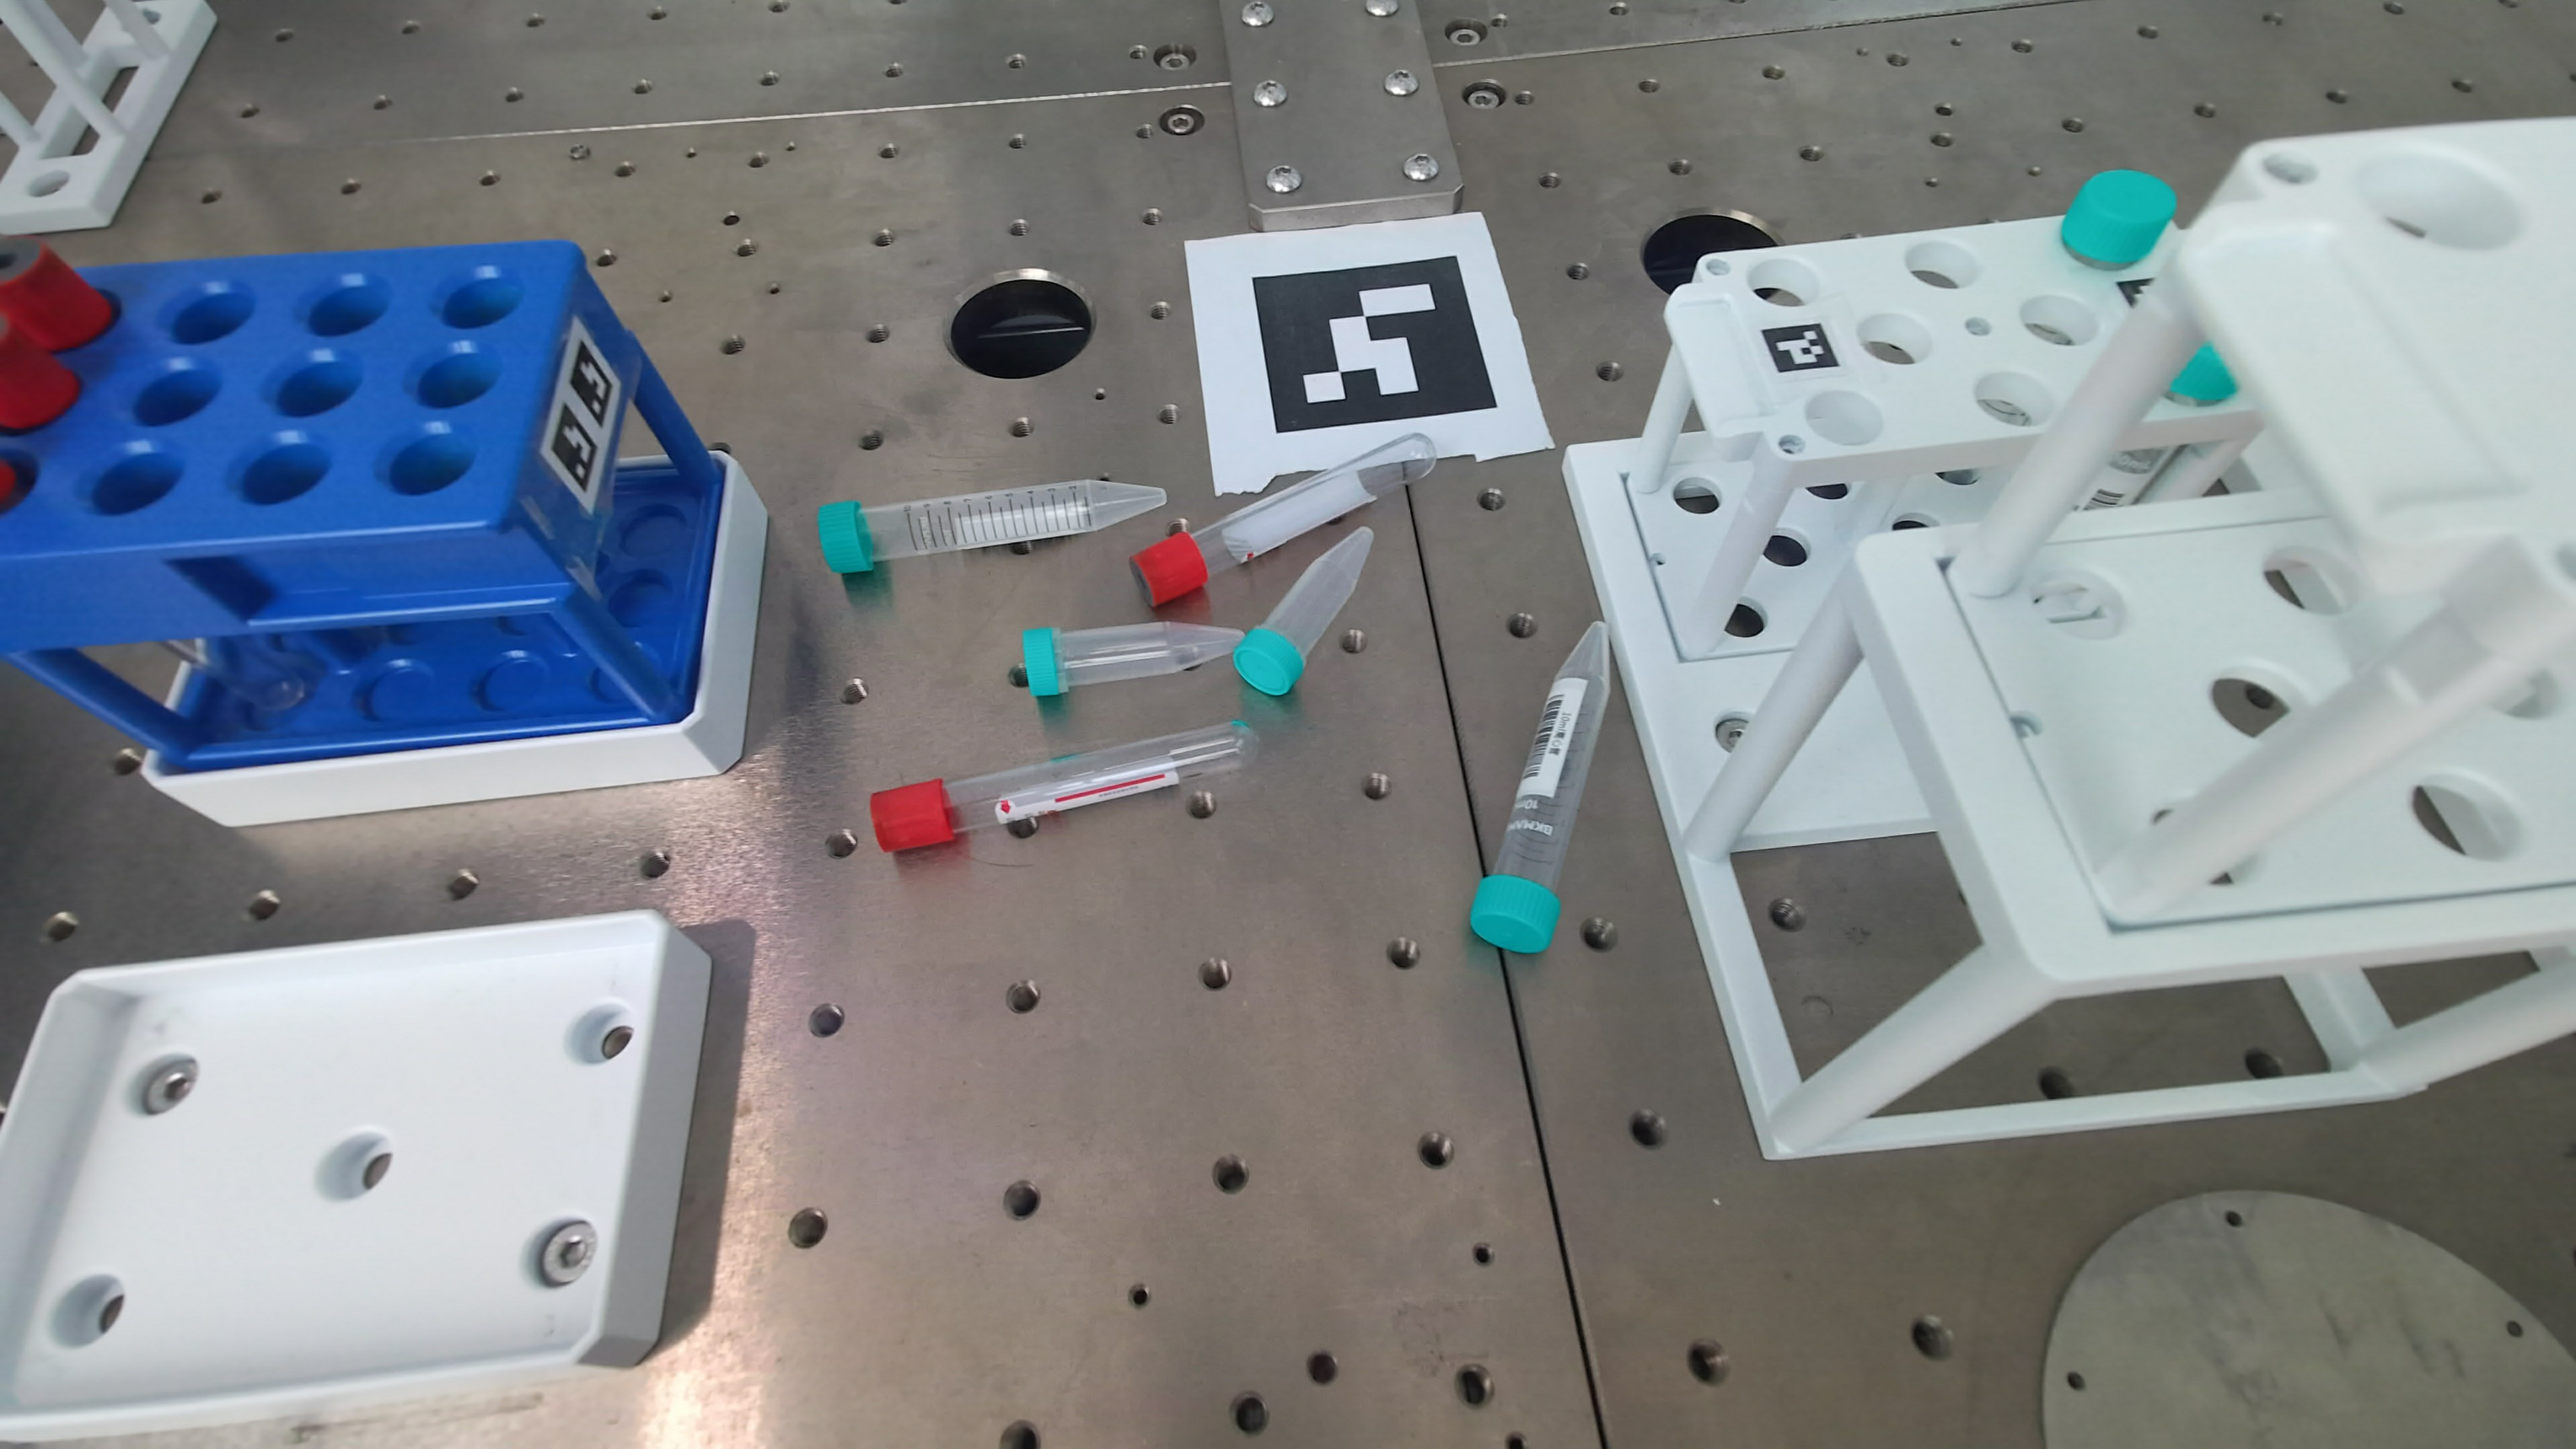10ML_centrifuge_tube: (1471, 623, 1608, 954), (818, 480, 1166, 573), (2061, 170, 2176, 267), (2169, 343, 2237, 403)
10ML_sorting_tube_rack: (0, 241, 762, 812), (0, 241, 729, 771)
5ML_centrifuge_tube: (1023, 527, 1373, 697)
blood_tube: (1135, 435, 1436, 604), (871, 724, 1256, 852), (0, 237, 113, 430)
dispensing_tube_rack: (1568, 120, 2576, 1159)
sorting_tube_rack_base: (0, 912, 709, 1439), (144, 460, 767, 827)
